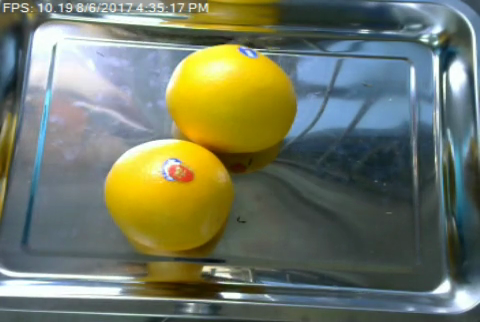Orange: (103, 137, 234, 250), (166, 43, 298, 151)
